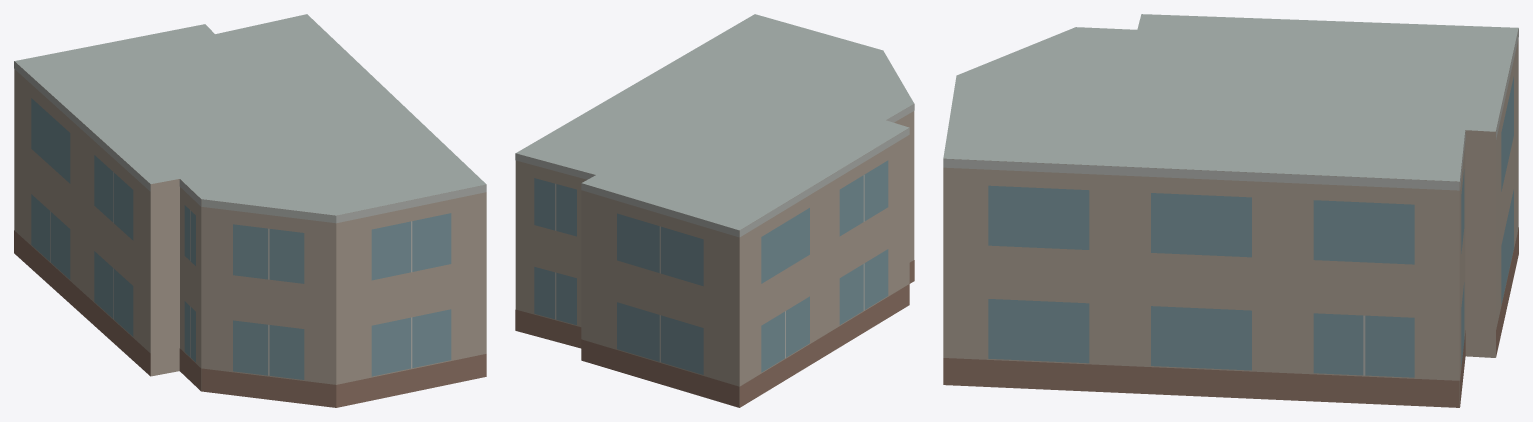
The model's file is survey-upis-32697628.glb.
The picture shows the model from 3 angles, left to right: view 1: azimuth 30°, elevation 25°; view 2: azimuth 150°, elevation 25°; view 3: azimuth 270°, elevation 25°; orthographic projection. The views are drawn at different scales.
Parts seen in each view (by area): view 1: survey-upis-32697628.tmp; view 2: survey-upis-32697628.tmp; view 3: survey-upis-32697628.tmp.
Boxes of the visible parts, <box> form: survey-upis-32697628.tmp: <box>14,14,486,407</box>; survey-upis-32697628.tmp: <box>515,14,914,407</box>; survey-upis-32697628.tmp: <box>943,14,1518,407</box>.
Bounding box in the file's own units: 9.7 × 6.1 × 14.07.
